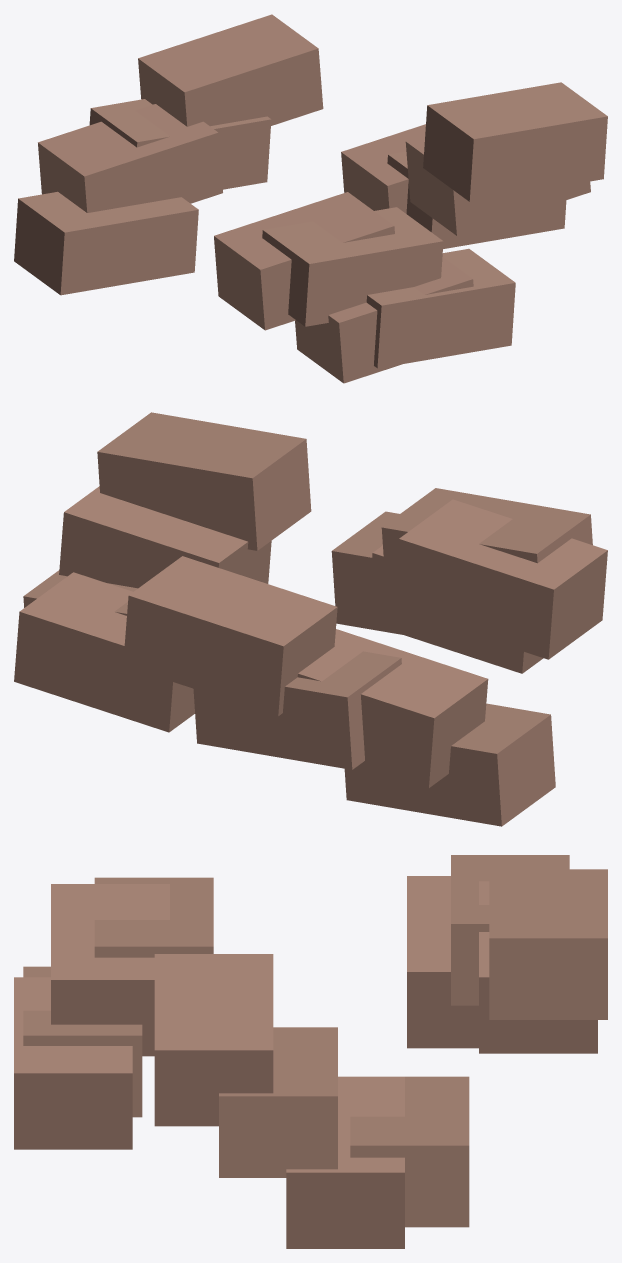
File: zombie-quarantine-streets-brick-rubble-heap-58a6cdd7__19352.glb
3 views of the same model, one above another, from view 1: azimuth 30°, elevation 25°; view 2: azimuth 150°, elevation 25°; view 3: azimuth 270°, elevation 25° (orthographic). The views are drawn at different scales.
Visible parts, largest first — view 1: brick-rubble-heap; view 2: brick-rubble-heap; view 3: brick-rubble-heap.
Boxes of the visible parts, x1,y1,x2,y2 form: brick-rubble-heap: (14,14,607,383); brick-rubble-heap: (14,412,607,826); brick-rubble-heap: (14,855,607,1248).
Bounding box in the file's own units: 1.71 × 0.5792 × 1.5.
